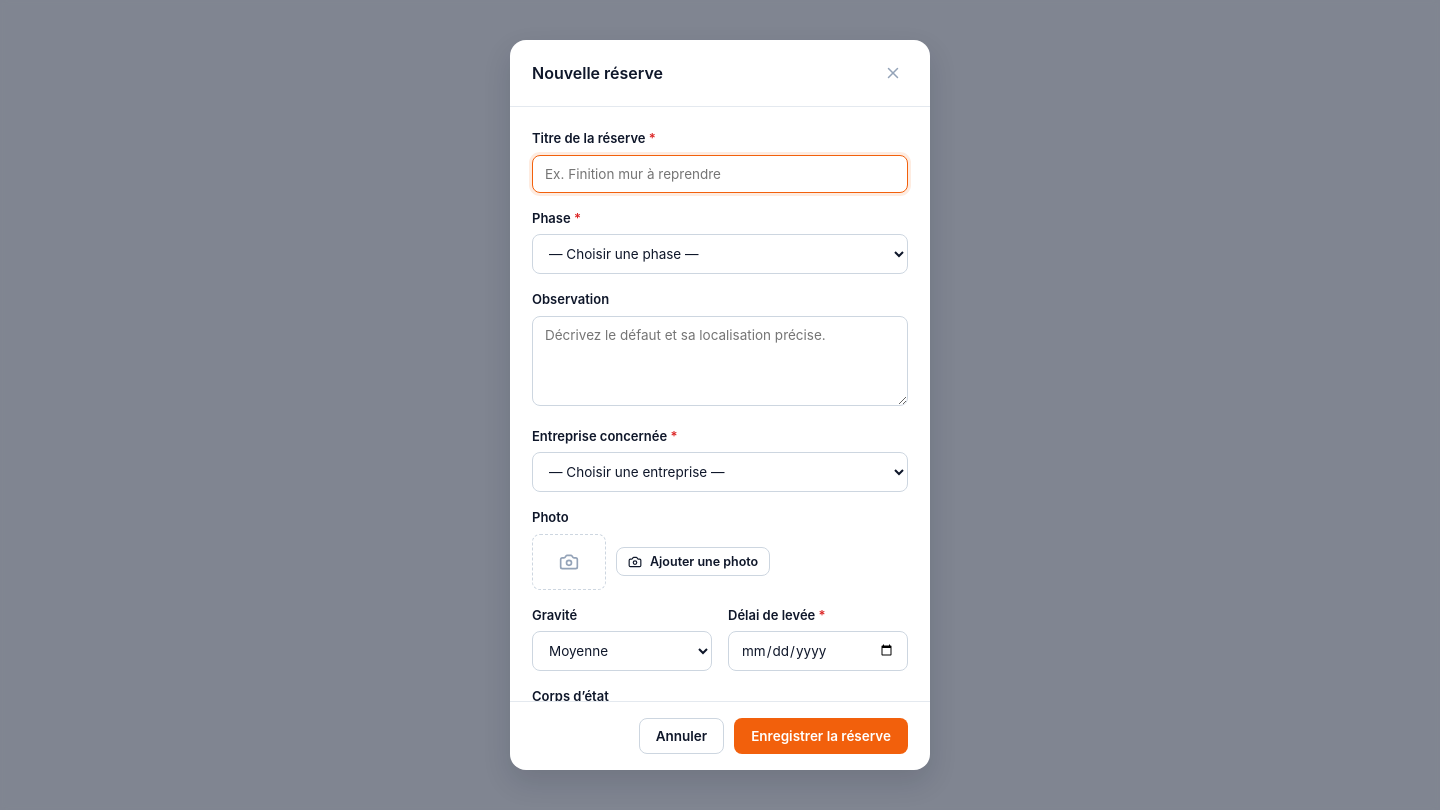
Scenario: champs obligatoires › refuse une réserve sans ÉCHÉANCE — elle ne serait jamais en retard
This screenshot has width=1440, height=810.
Type "Fissure" into the field labelled "Titre de la réserve *" at (720,174), box x1=532 y1=154 x2=908 y2=192
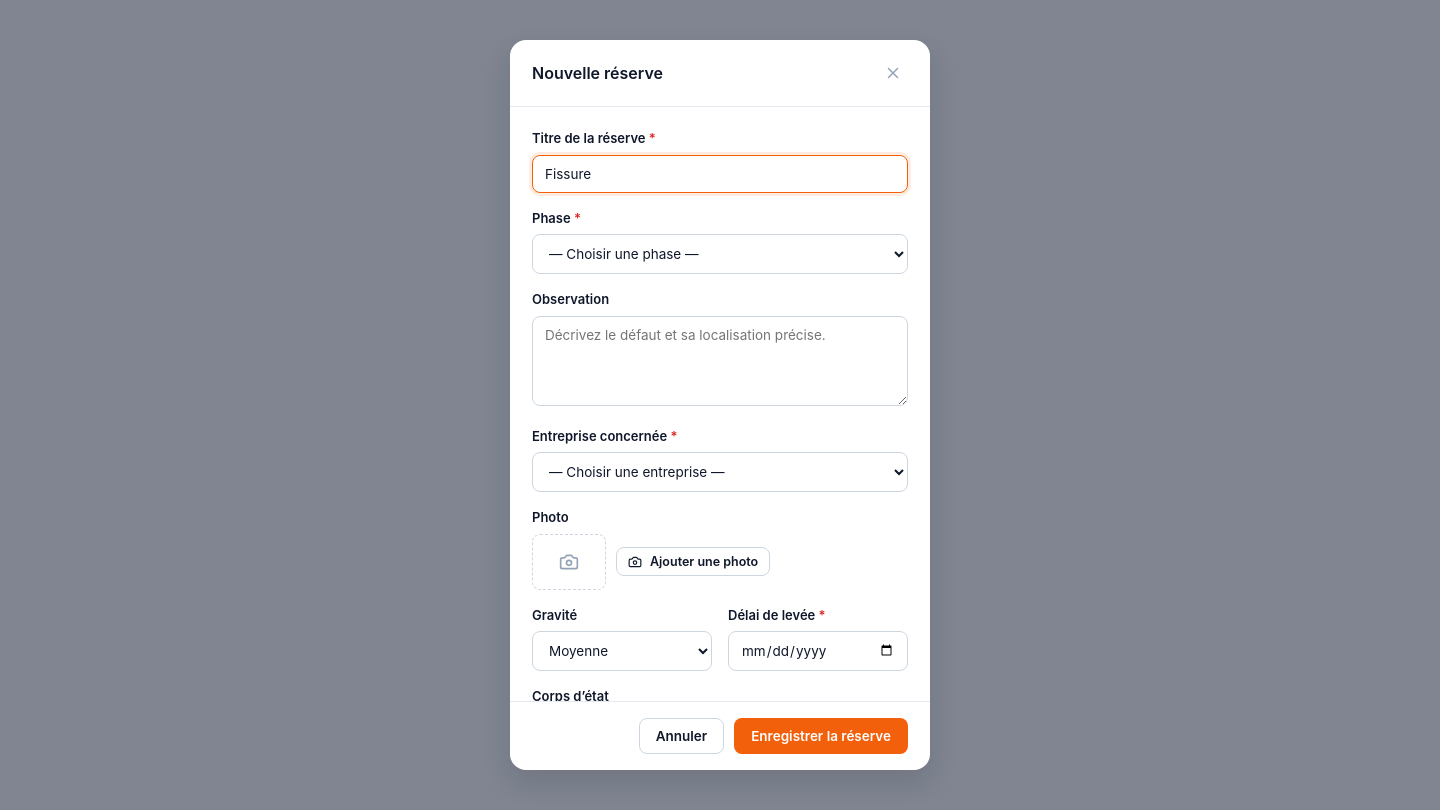
Select "Gros œuvre" in the dropdown labelled "Phase *" at (720,254), box x1=532 y1=234 x2=908 y2=274
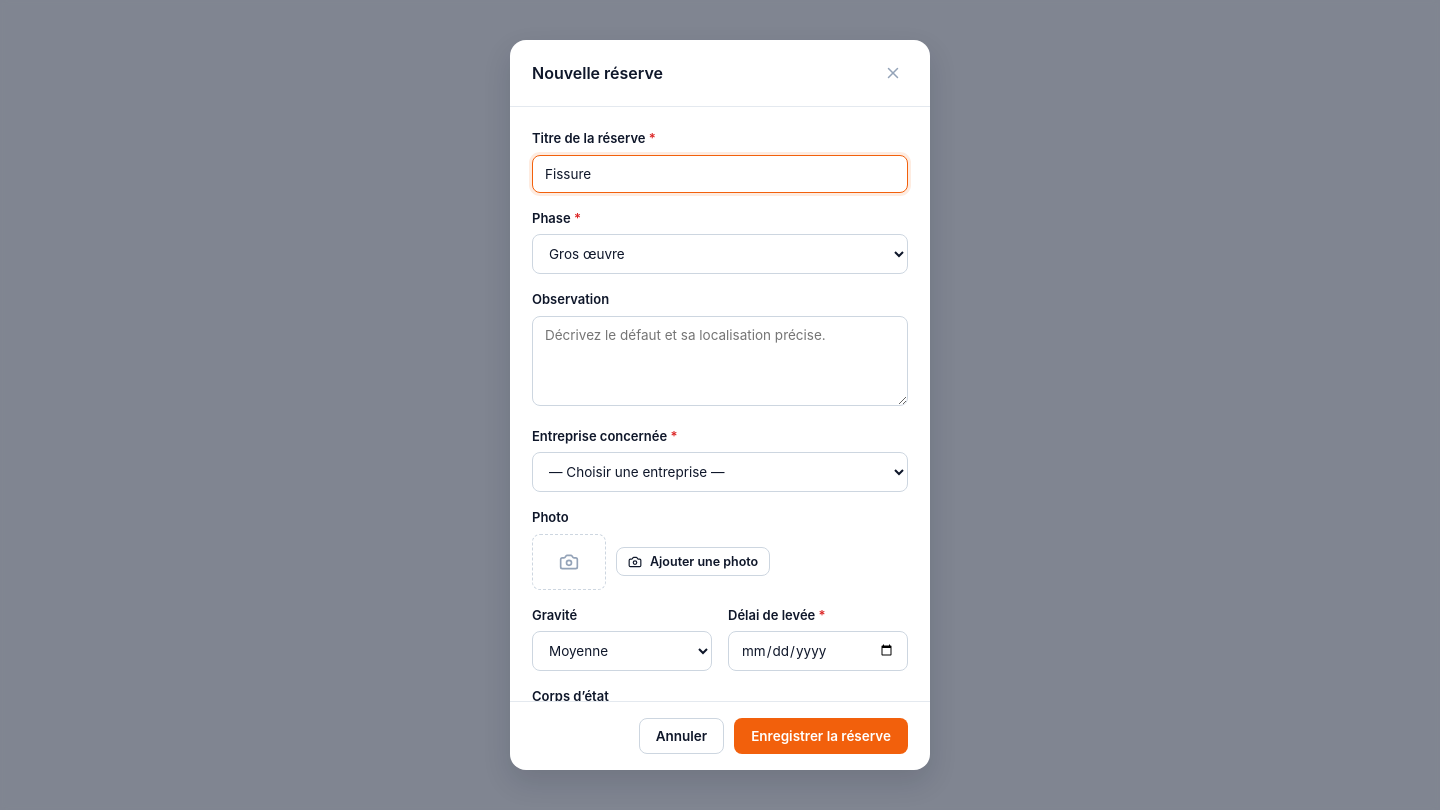
Select "SARL Toiture" in the dropdown labelled "Entreprise concernée *" at (720,472), box x1=532 y1=452 x2=908 y2=492
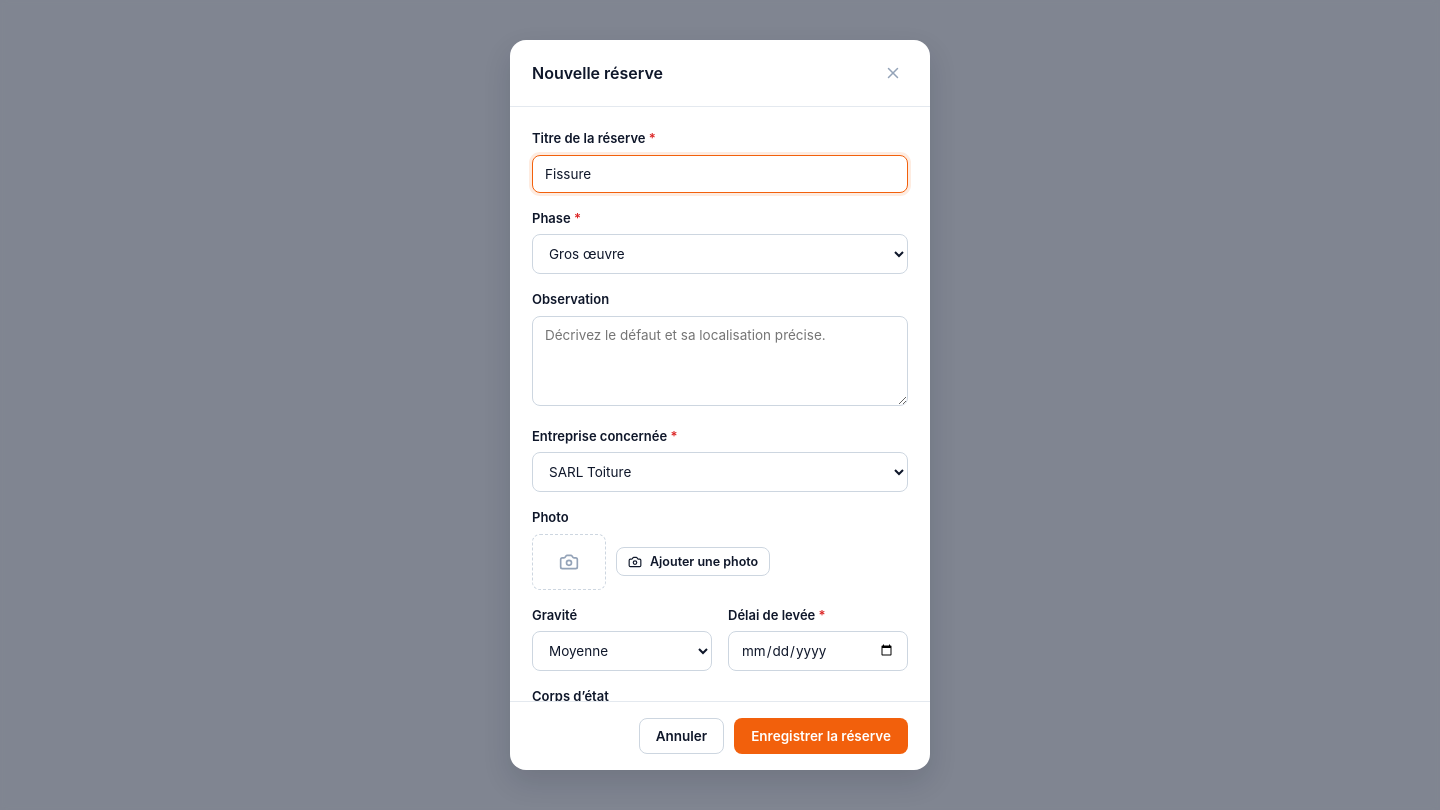
Click the button "Enregistrer la réserve" at (821,736), box x1=734 y1=718 x2=908 y2=754
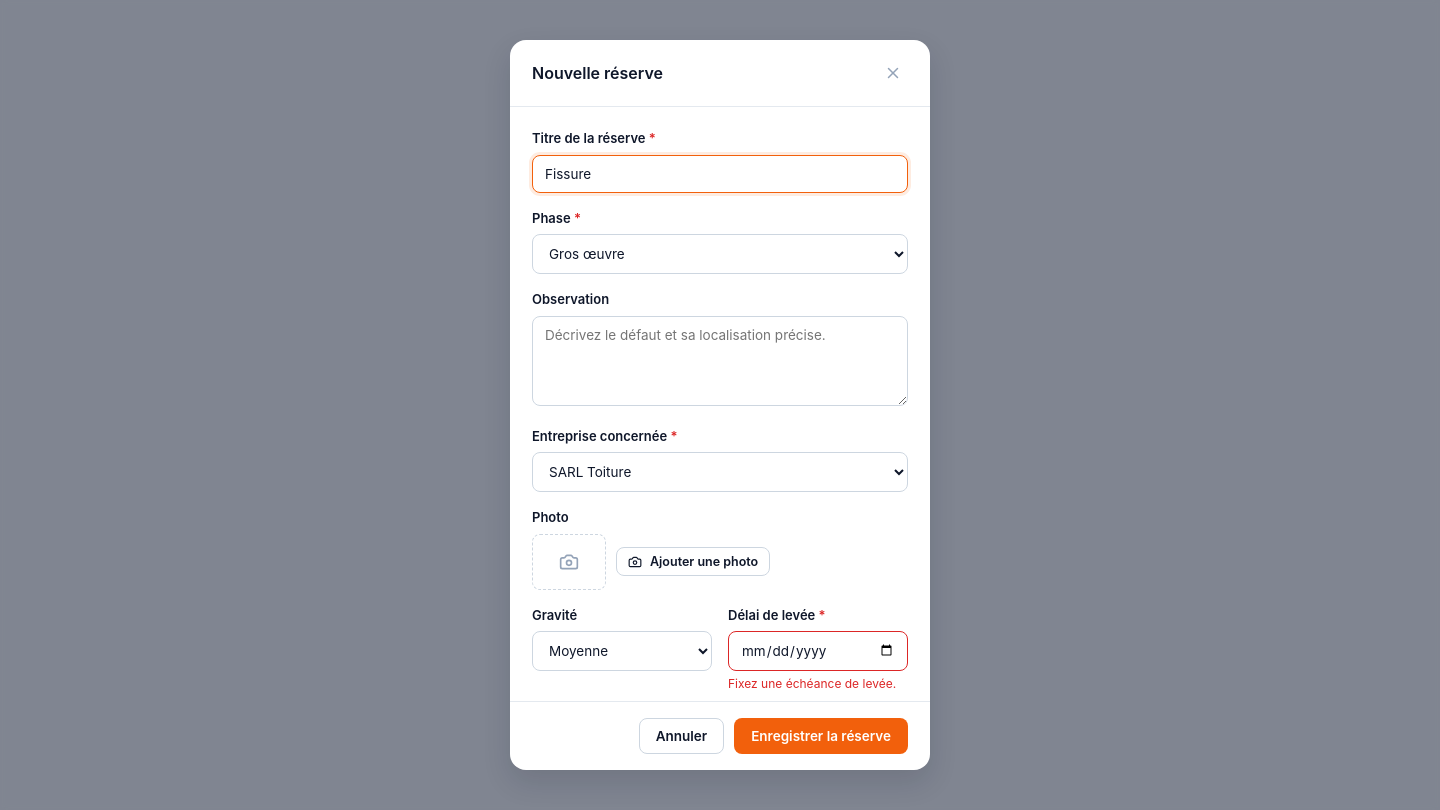
expect the text "Fixez une échéance de levée." is shown: met, box x1=728 y1=675 x2=908 y2=693
